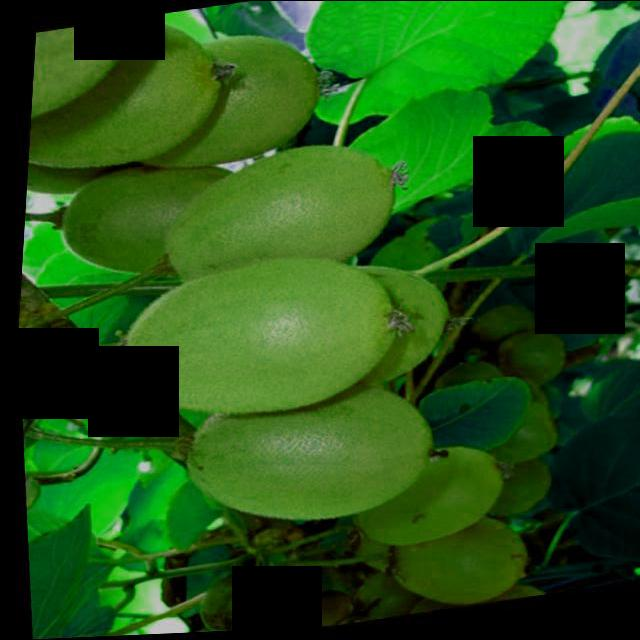kiwi: (112, 263, 382, 438), (174, 379, 440, 545), (150, 139, 402, 301), (23, 16, 221, 181), (112, 32, 323, 179), (48, 157, 243, 291), (347, 447, 506, 557), (378, 523, 532, 623), (475, 460, 556, 526), (480, 408, 554, 475), (460, 307, 540, 365), (488, 333, 564, 394)
